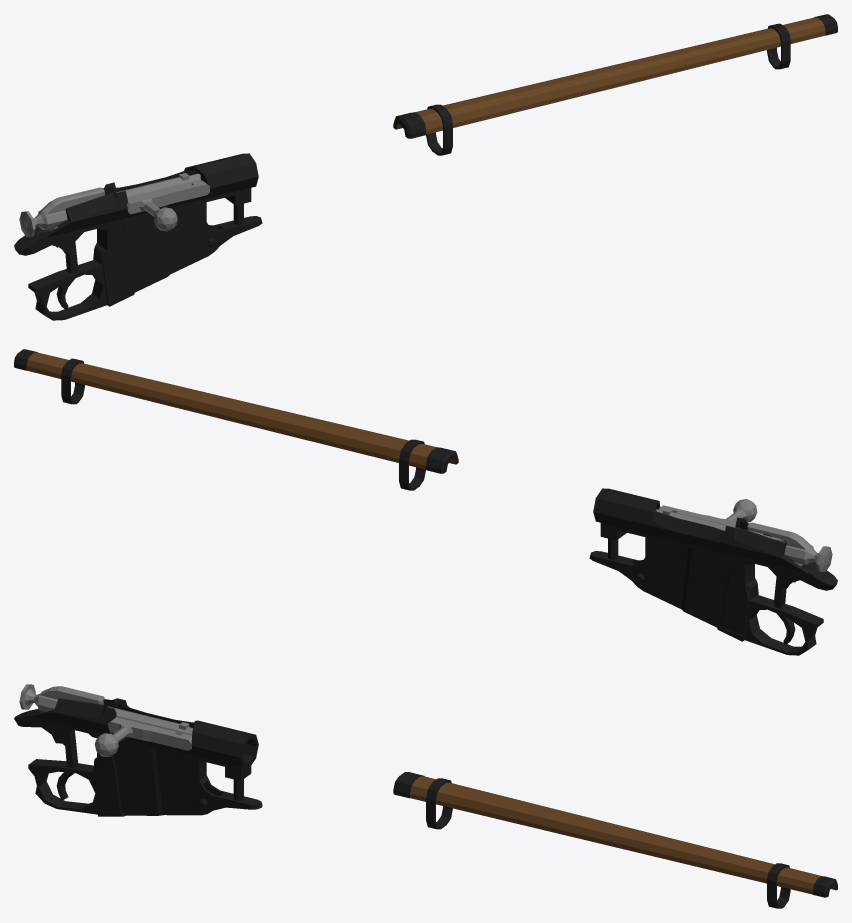
The model's file is mosin_nagant_189130.glb.
The picture shows the model from 3 angles, top to bottom: view 1: azimuth 30°, elevation 25°; view 2: azimuth 150°, elevation 25°; view 3: azimuth 330°, elevation 25°; orthographic projection.
Visible parts, largest first — view 1: mosin9130 receiver_3, mosin9130 handguard upper_8 (×2), mosin9130 bolt head_5, mosin9130 bolt body_6; view 2: mosin9130 receiver_3, mosin9130 handguard upper_8 (×2), mosin9130 bolt body_6, mosin9130 bolt head_5; view 3: mosin9130 receiver_3, mosin9130 handguard upper_8 (×2), mosin9130 bolt head_5, mosin9130 bolt body_6, mosin9130 trigga_4.
Boxes of the visible parts, x1,y1,x2,y2 form: mosin9130 receiver_3: (14,153,262,320); mosin9130 handguard upper_8 (×2): (393,14,837,155); mosin9130 bolt head_5: (116,173,209,231); mosin9130 bolt body_6: (19,173,191,236); mosin9130 receiver_3: (589,488,837,655); mosin9130 handguard upper_8 (×2): (14,349,458,490); mosin9130 bolt body_6: (662,508,832,571); mosin9130 bolt head_5: (656,499,784,542); mosin9130 receiver_3: (14,698,262,816); mosin9130 handguard upper_8 (×2): (393,772,837,908); mosin9130 bolt head_5: (94,706,192,756); mosin9130 bolt body_6: (19,684,190,735); mosin9130 trigga_4: (56,730,78,800).
Bounding box in the file's own units: 8.06 × 1.12 × 0.7663.
